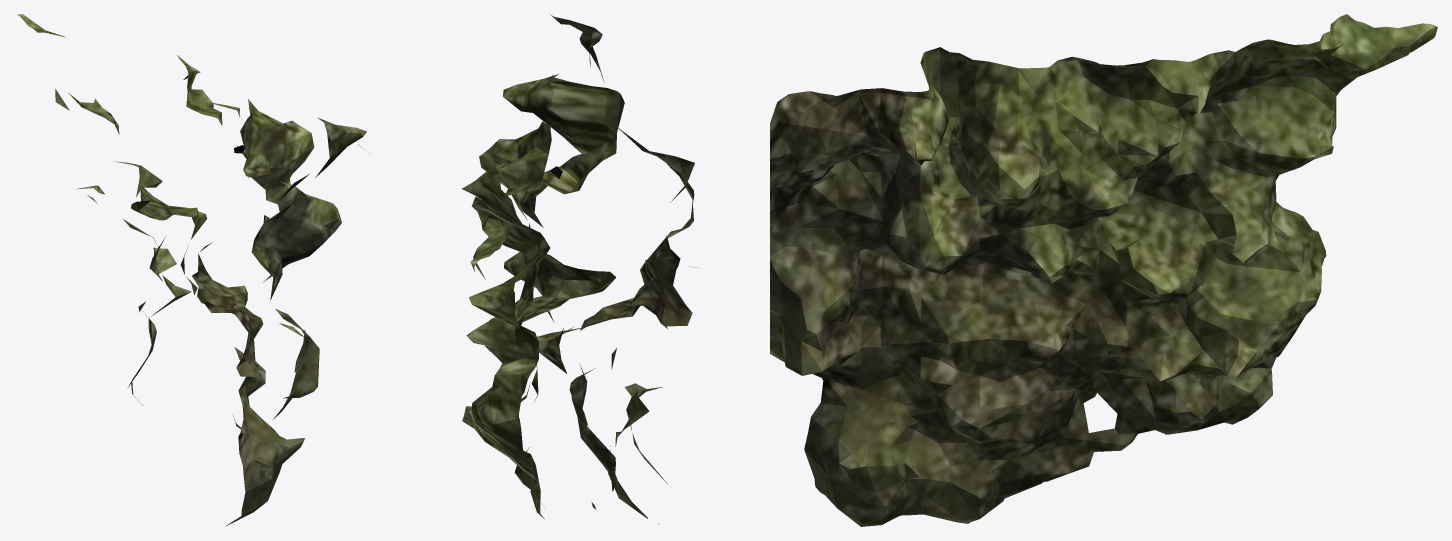
The picture shows the model from 3 angles, left to right: view 1: azimuth 30°, elevation 25°; view 2: azimuth 150°, elevation 25°; view 3: azimuth 270°, elevation 25°; orthographic projection. The views are drawn at different scales.
Size of the model in its own units: 1.08 by 2.2 by 2.61.
2 materials, 2 textured.
